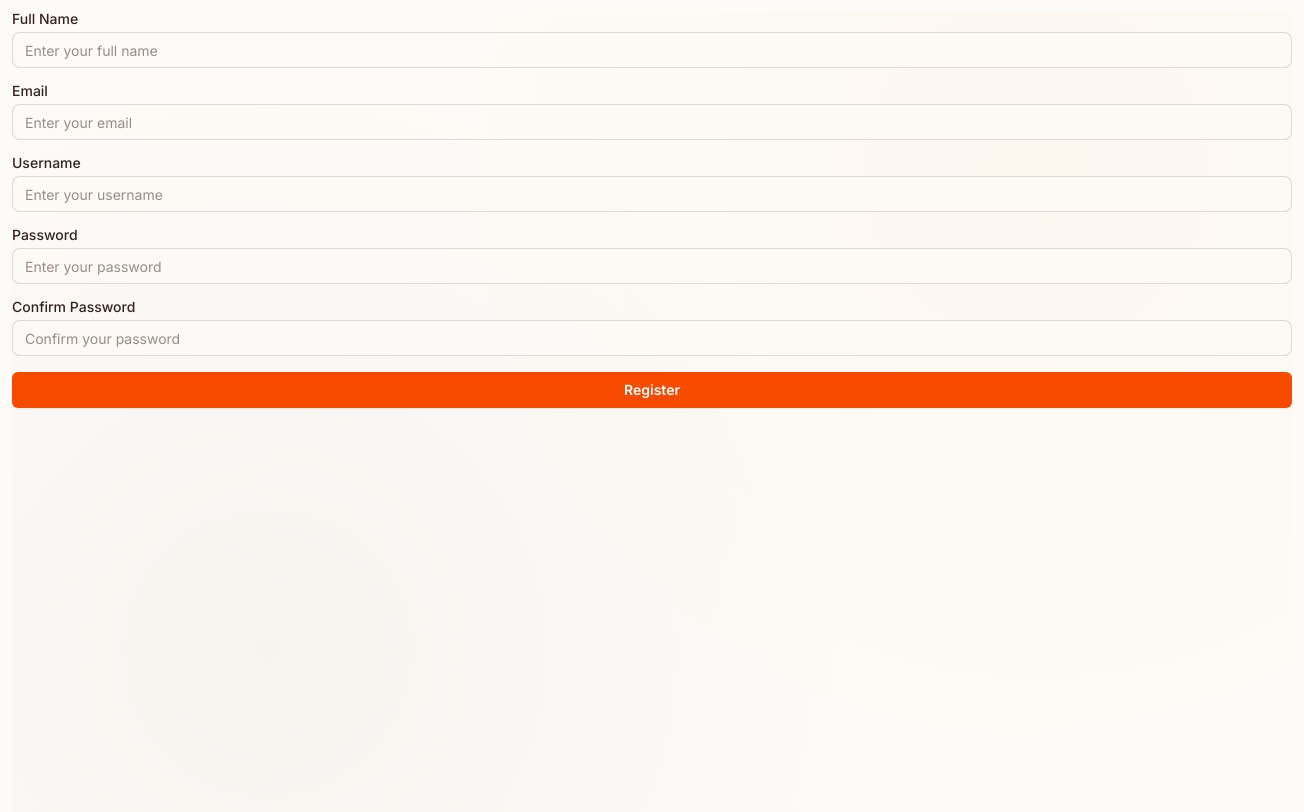
Test: UserRegistrationForm › ✅ Form Validation › should show validation errors for empty required fields
// Submit form without filling any fields
Step 1. Click the button "Register" → (652, 390), box [12,372,1292,408]
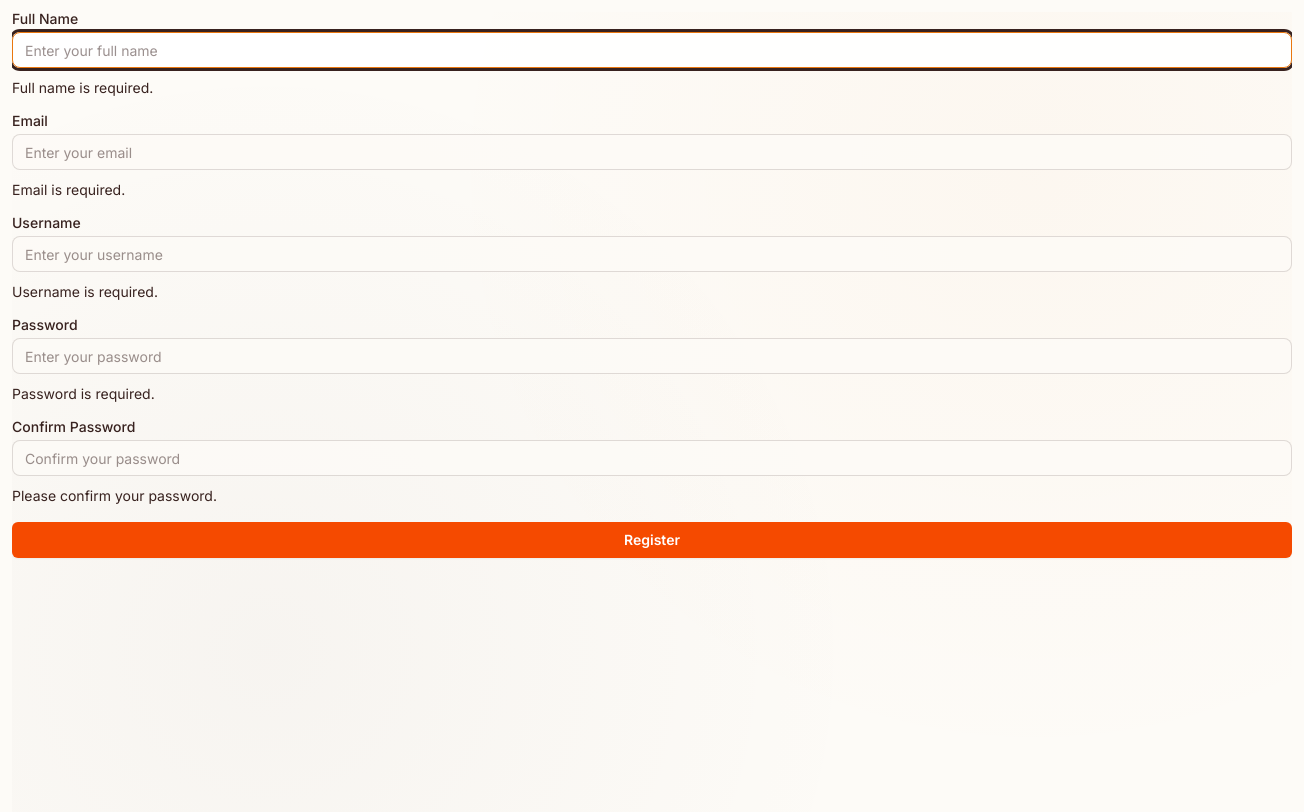
Expected: the text "Full name is required." is shown, [12,79,153,96]
Expected: the text "Email is required." is shown, [12,181,125,198]
Expected: the text "Username is required." is shown, [12,283,158,300]
